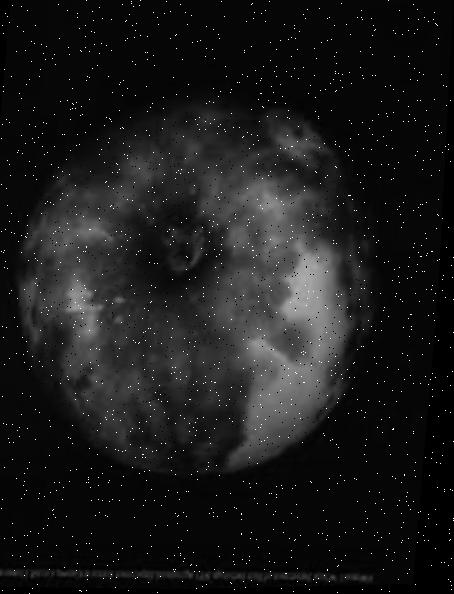BLOTCH: (0, 68, 405, 519)
